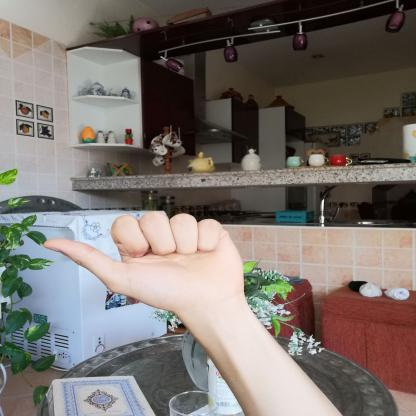DAD: (33, 204, 255, 319)
